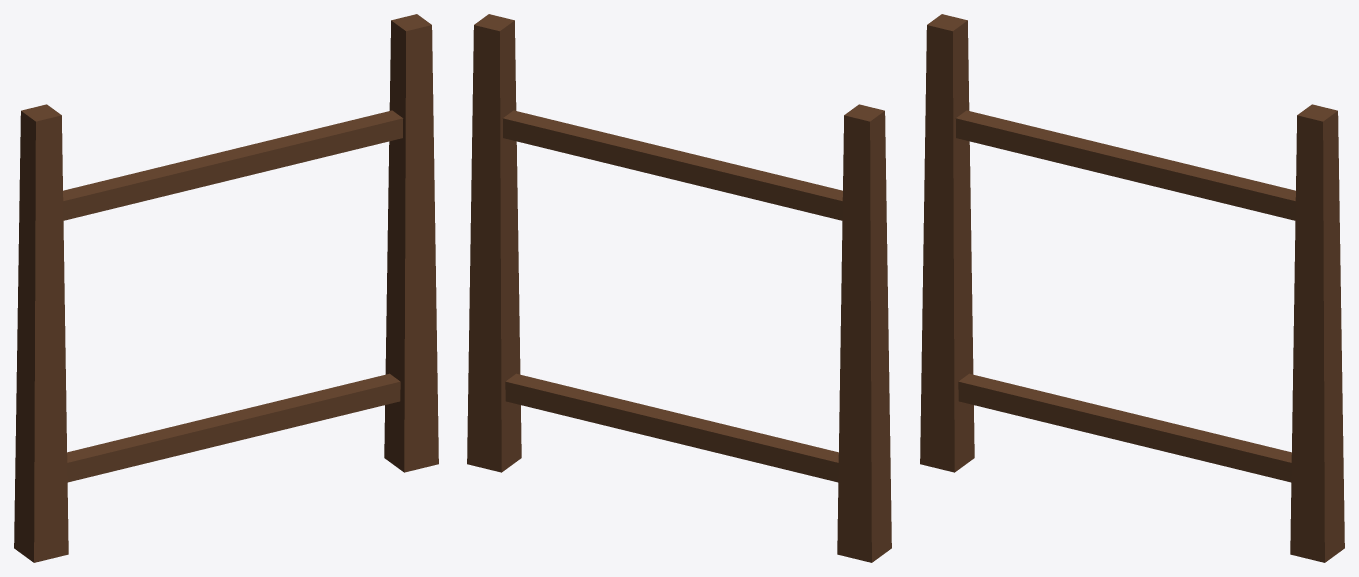
Rendered from kenney_survival-kit__fence__cave.fbx.
3 renders of one model, left to right at view 1: azimuth 30°, elevation 25°; view 2: azimuth 150°, elevation 25°; view 3: azimuth 330°, elevation 25°, orthographic.
Parts seen in each view (by area): view 1: kenney_survival-kit__fence__cave_wood; view 2: kenney_survival-kit__fence__cave_wood; view 3: kenney_survival-kit__fence__cave_wood.
Part boxes in pixels (x1=…): kenney_survival-kit__fence__cave_wood: x1=14, y1=14, x2=438, y2=562; kenney_survival-kit__fence__cave_wood: x1=467, y1=14, x2=891, y2=562; kenney_survival-kit__fence__cave_wood: x1=920, y1=14, x2=1344, y2=562.
Size of the model in its own units: 1.79 by 1.85 by 0.1528.
1 material, 1 textured.
